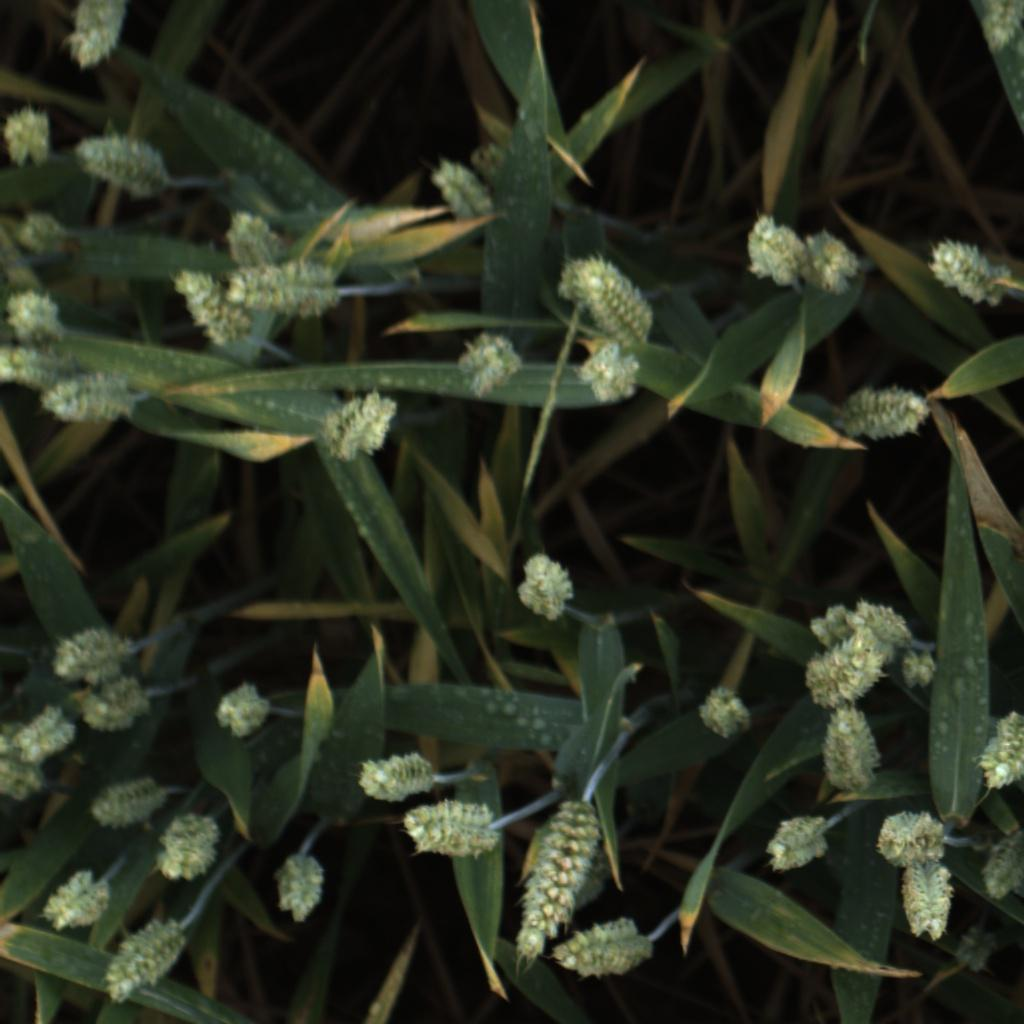0-0: (509, 791, 605, 959), (71, 124, 178, 196), (566, 254, 655, 340), (166, 263, 247, 352), (102, 915, 183, 1004), (550, 919, 656, 987), (918, 236, 1009, 315), (223, 260, 345, 314), (807, 628, 889, 707), (819, 706, 886, 800), (148, 809, 226, 888), (399, 799, 495, 862), (832, 381, 930, 442), (323, 392, 403, 465), (41, 860, 114, 937), (44, 370, 137, 427), (508, 553, 580, 624), (62, 0, 130, 74), (82, 775, 163, 835), (794, 227, 861, 298), (10, 695, 76, 767), (79, 673, 155, 735), (353, 749, 437, 805), (456, 330, 526, 397), (966, 710, 1024, 789), (269, 855, 331, 928), (741, 213, 800, 289), (3, 723, 53, 812), (579, 343, 644, 411), (47, 625, 127, 680), (209, 678, 274, 745), (421, 156, 490, 218), (874, 811, 948, 868), (221, 206, 285, 268), (766, 811, 827, 875), (899, 865, 952, 938), (5, 284, 68, 345), (2, 102, 58, 169), (1, 346, 65, 401), (695, 686, 755, 740), (852, 593, 918, 642), (889, 638, 944, 696), (980, 837, 1024, 902), (16, 205, 68, 258), (977, 0, 1024, 52), (805, 603, 860, 647), (952, 926, 1001, 975)
